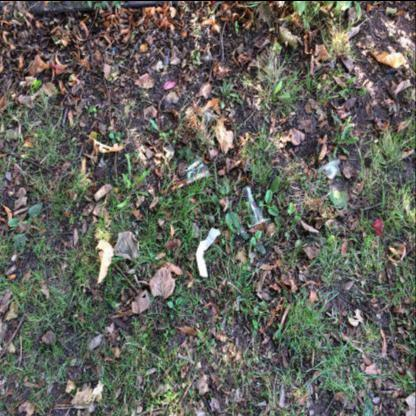Cup: (244, 186, 272, 227), (177, 154, 210, 188)
Other plastic: (320, 159, 340, 179)
Paper: (197, 227, 221, 277)
